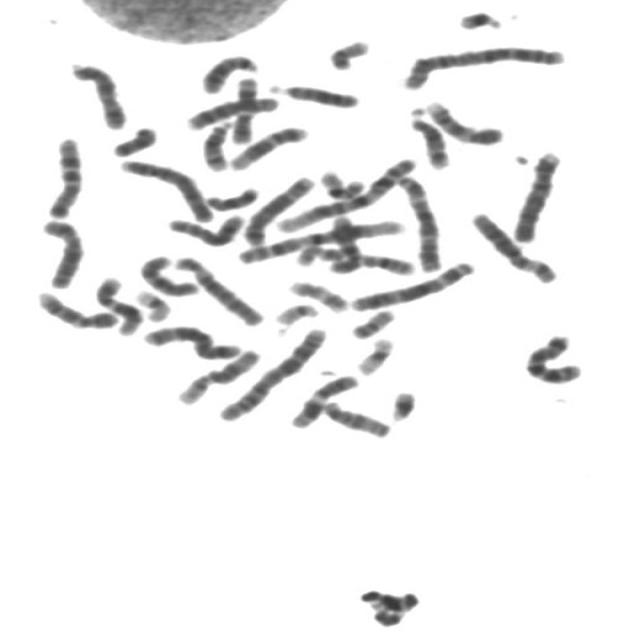A1: (271, 151, 422, 235), (231, 213, 410, 266)
A2: (213, 320, 331, 422), (395, 38, 571, 91)
A3: (346, 255, 480, 312), (390, 168, 447, 272)
B4: (115, 152, 219, 224), (506, 144, 566, 244)
B5: (238, 170, 318, 247), (138, 319, 246, 360)
C10: (133, 249, 204, 298), (326, 216, 368, 274)
C11: (284, 368, 364, 430), (226, 70, 264, 146)
C12: (224, 119, 313, 171), (90, 271, 146, 336)
C6: (465, 204, 564, 285), (168, 250, 270, 328)
C7: (41, 130, 88, 220), (518, 327, 590, 385)
C8: (181, 90, 284, 131), (161, 208, 251, 248)
C9: (420, 94, 508, 147), (31, 285, 123, 331)
D13: (265, 76, 364, 110), (194, 48, 264, 95)
D14: (404, 103, 456, 170), (197, 114, 237, 172)
D15: (316, 395, 396, 439), (197, 343, 265, 388)
E16: (312, 162, 370, 202), (352, 249, 418, 278)
E17: (283, 274, 353, 314), (297, 243, 358, 269)
E18: (106, 120, 162, 158), (200, 180, 264, 212)
F19: (351, 331, 400, 376), (129, 284, 176, 323)
F20: (322, 33, 376, 71), (346, 303, 400, 340)
G21: (452, 3, 508, 32), (384, 383, 422, 422)
G22: (172, 370, 222, 407), (270, 297, 324, 326)
X: (64, 56, 133, 131), (34, 212, 90, 290)
